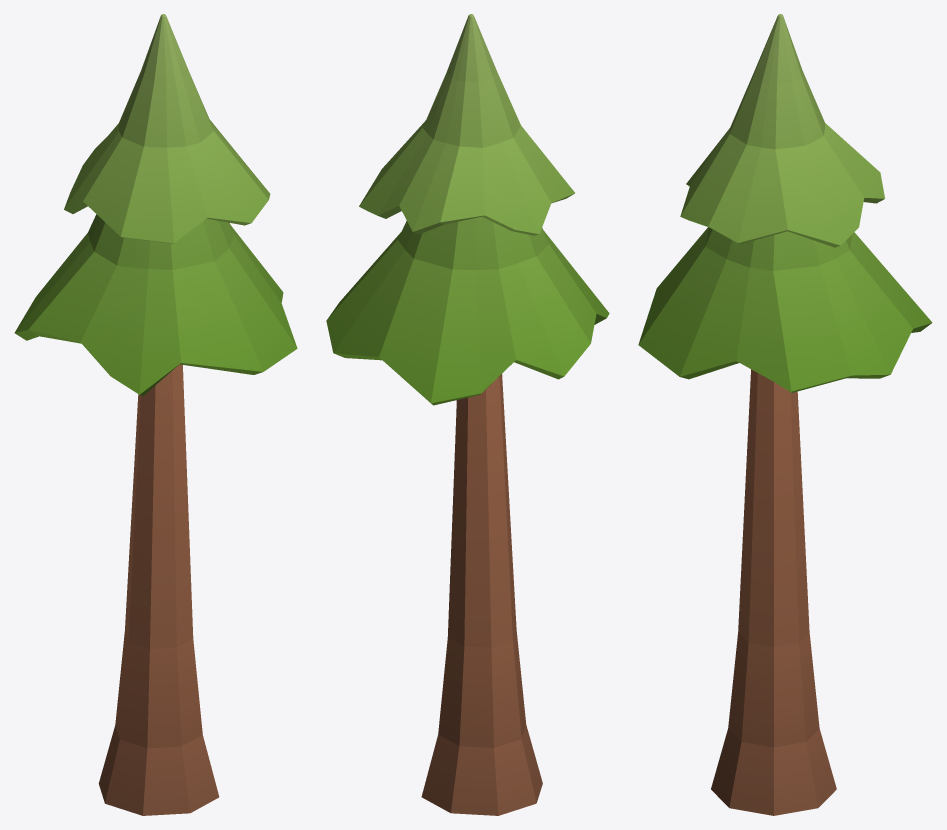
File: pine tree small.fbx
The picture shows the model from 3 angles, left to right: view 1: azimuth 30°, elevation 25°; view 2: azimuth 150°, elevation 25°; view 3: azimuth 270°, elevation 25°; orthographic projection.
Visible parts, largest first — view 1: pine tree small; view 2: pine tree small; view 3: pine tree small.
Boxes of the visible parts, <box> form: pine tree small: <box>14,14,297,815</box>; pine tree small: <box>326,14,609,815</box>; pine tree small: <box>638,14,932,815</box>.
Bounding box in the file's own units: 188 × 550 × 188.
